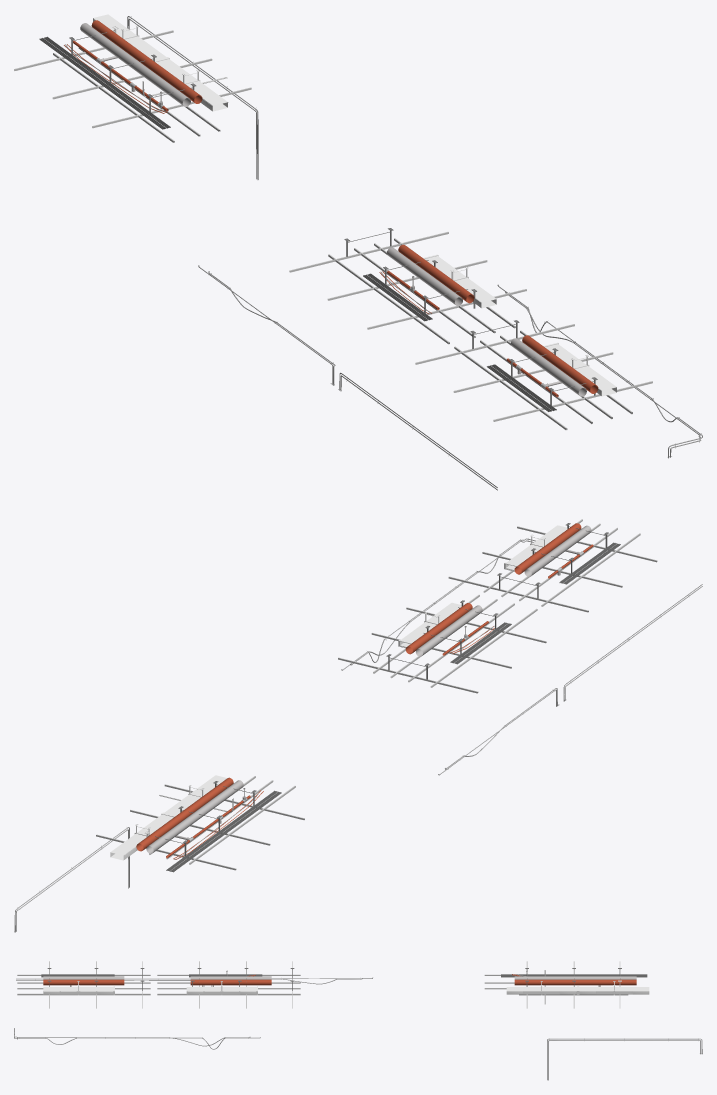
3 views of the same model, one above another, from view 1: azimuth 30°, elevation 25°; view 2: azimuth 150°, elevation 25°; view 3: azimuth 270°, elevation 25° (orthographic). The views are drawn at different scales.
Parts seen in each view (by area): view 1: SM_H_Building_FutureTech_HOrange_01_InterWall_06B; view 2: SM_H_Building_FutureTech_HOrange_01_InterWall_06B; view 3: SM_H_Building_FutureTech_HOrange_01_InterWall_06B.
Boxes of the visible parts, left/top/right/bottom form: SM_H_Building_FutureTech_HOrange_01_InterWall_06B: left=14, top=14, right=702, bottom=490; SM_H_Building_FutureTech_HOrange_01_InterWall_06B: left=14, top=519, right=702, bottom=932; SM_H_Building_FutureTech_HOrange_01_InterWall_06B: left=14, top=961, right=702, bottom=1080.
Bounding box in the file's own units: 1028 × 213 × 126.
